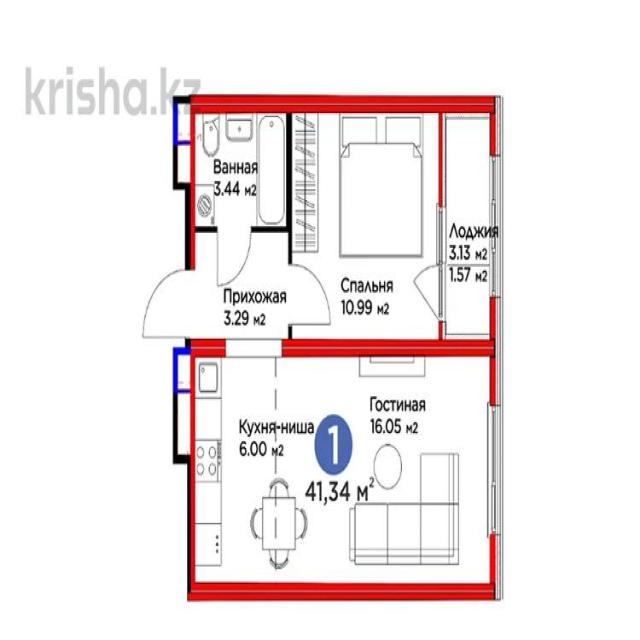balcony: (446, 108, 496, 338)
bathroom: (195, 105, 289, 227)
hallway: (195, 233, 288, 342)
living_room: (294, 106, 441, 337)
studio: (194, 354, 491, 591)
